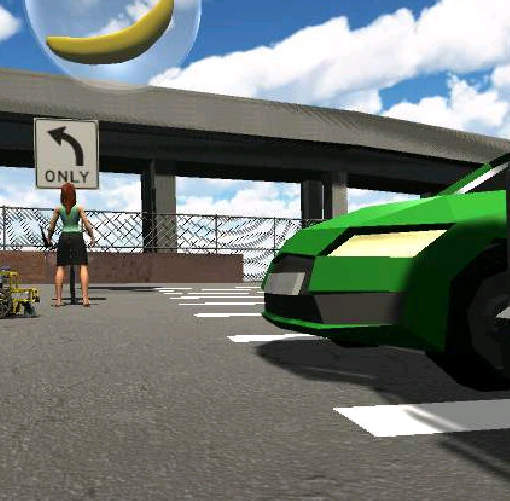arrow_left: (43, 125, 88, 169)
